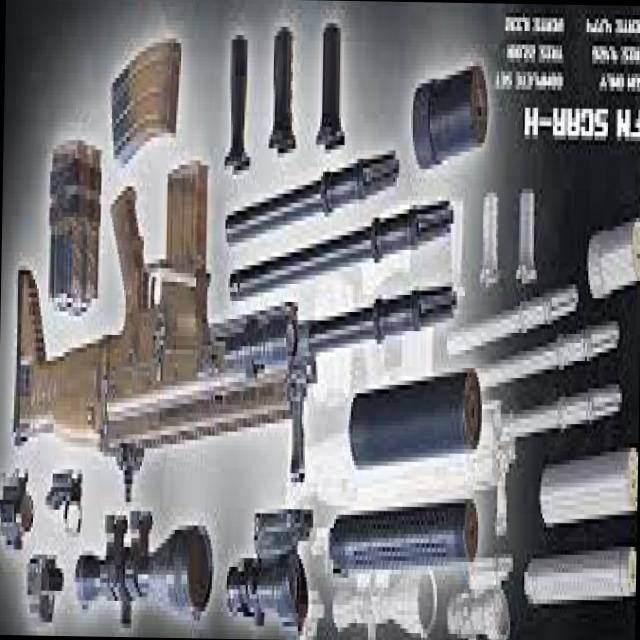Gun: (1, 168, 453, 485)
